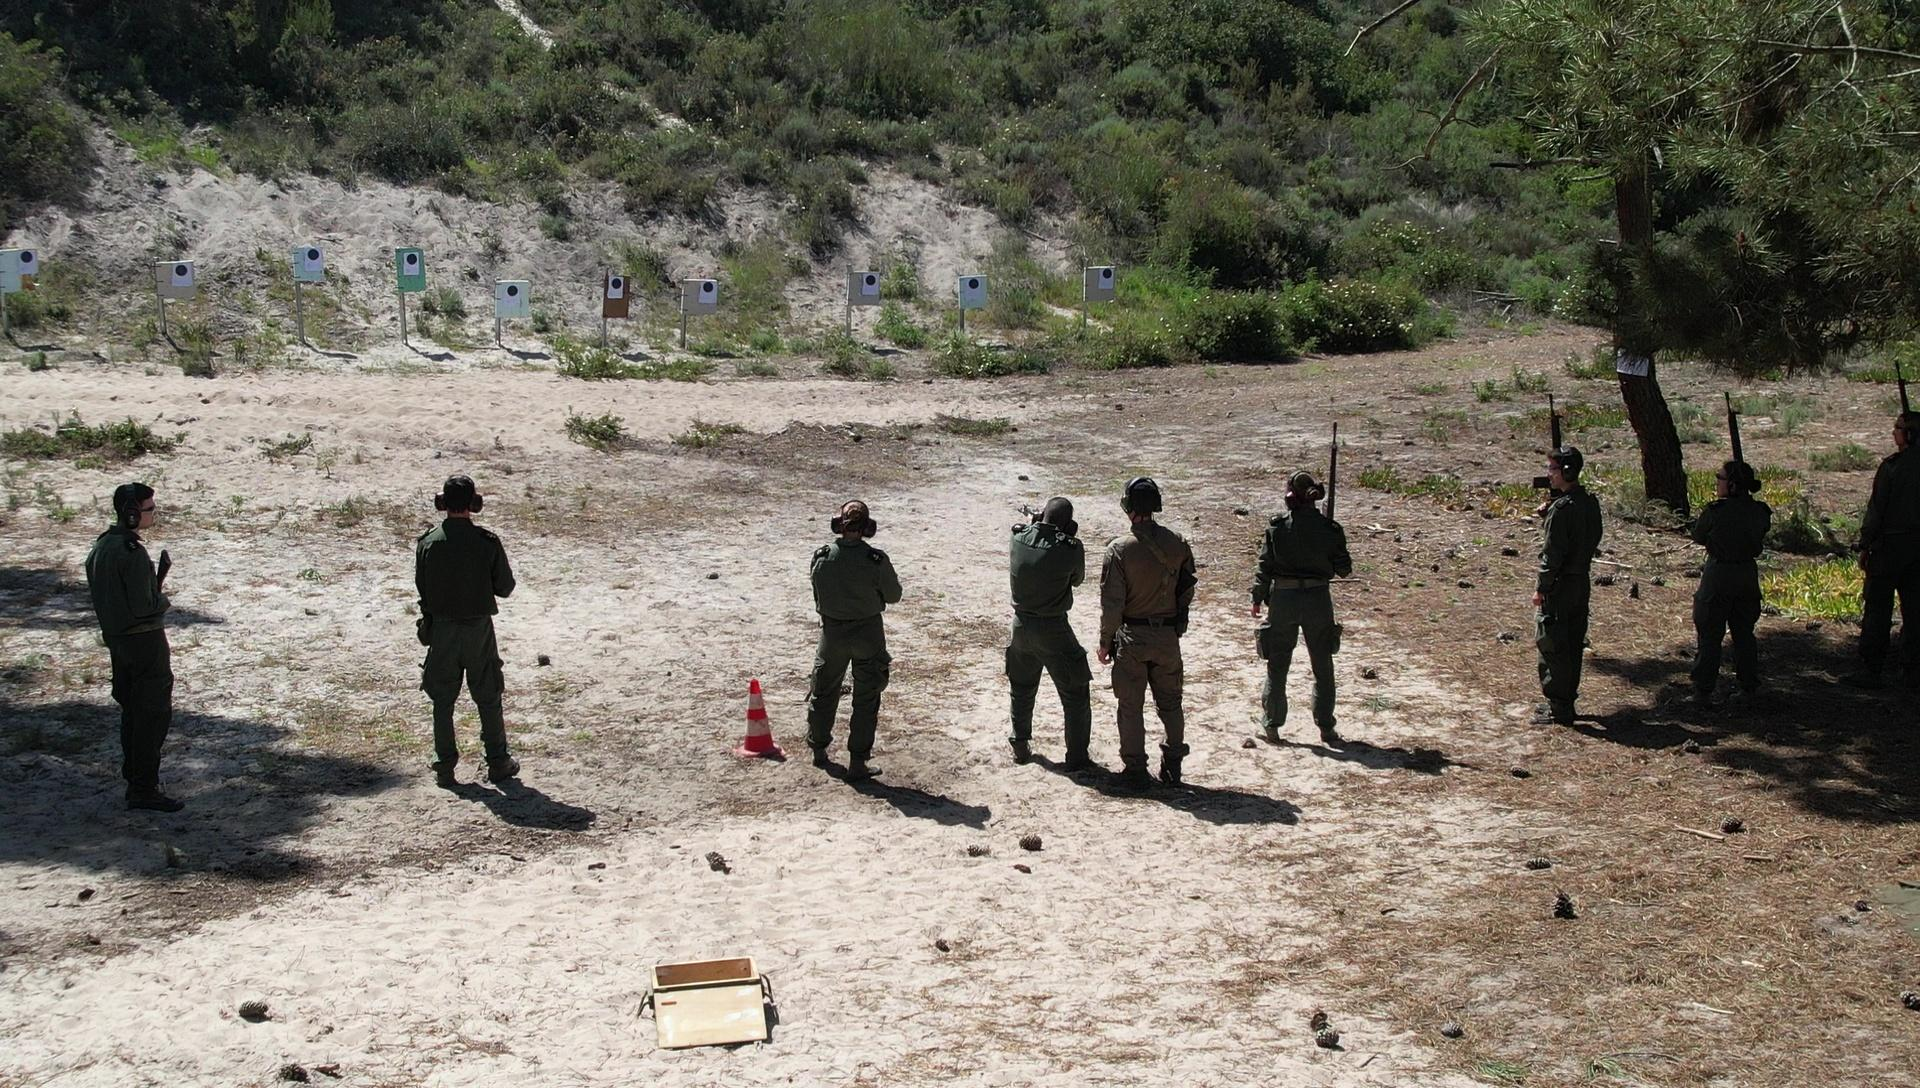Soldier: (365, 452, 558, 826), (58, 472, 223, 855), (1083, 462, 1209, 802), (1217, 421, 1332, 790), (1675, 417, 1793, 768), (1004, 466, 1117, 828), (793, 487, 907, 797), (1473, 365, 1571, 721), (1, 0, 1, 0)
